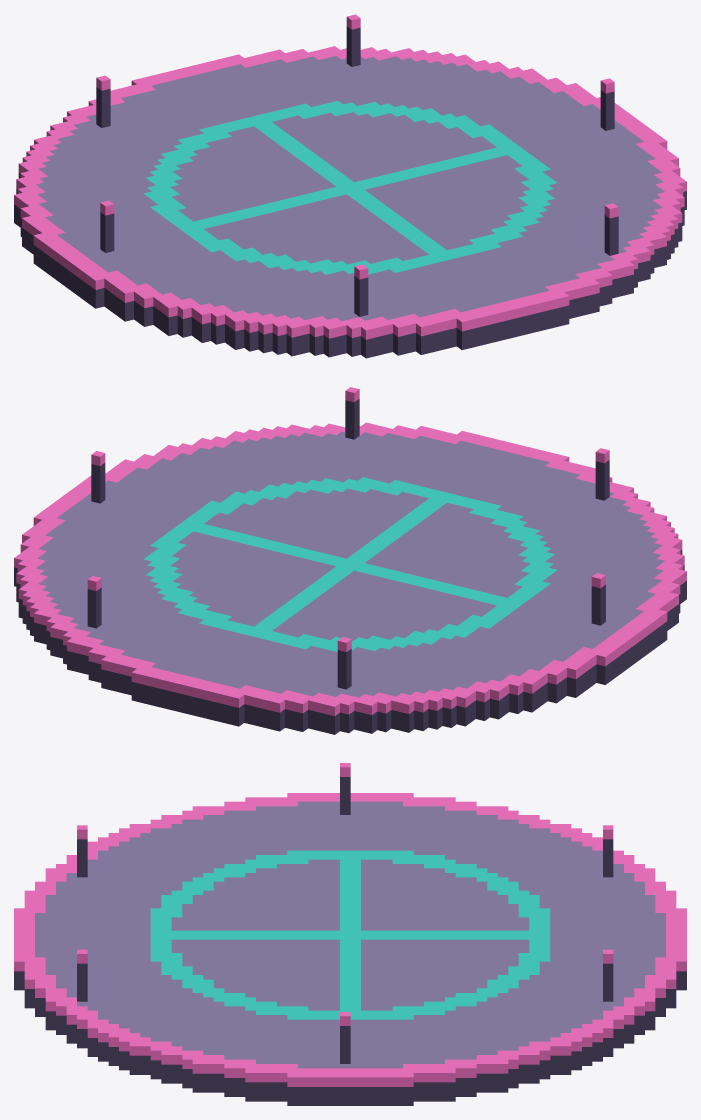
The model's file is plataforma.obj.
3 views of the same model, one above another, from view 1: azimuth 30°, elevation 25°; view 2: azimuth 150°, elevation 25°; view 3: azimuth 270°, elevation 25° (orthographic).
Visible parts, largest first — view 1: plataforma_plataforma, plataforma_luces, plataforma_marca, plataforma_base, postes, faros; view 2: plataforma_plataforma, plataforma_luces, plataforma_marca, plataforma_base, postes, faros; view 3: plataforma_plataforma, plataforma_luces, plataforma_marca, plataforma_base, postes, faros.
Boxes of the visible parts, box(x1,y1,x2,y2) form: plataforma_plataforma: box(36, 56, 664, 321); plataforma_luces: box(14, 46, 686, 339); plataforma_marca: box(143, 101, 556, 274); plataforma_base: box(14, 173, 686, 358); postes: box(96, 26, 618, 316); faros: box(96, 14, 618, 279); plataforma_plataforma: box(36, 431, 664, 697); plataforma_luces: box(14, 422, 686, 715); plataforma_marca: box(143, 477, 556, 651); plataforma_base: box(14, 549, 686, 734); postes: box(87, 399, 609, 689); faros: box(87, 387, 609, 651); plataforma_plataforma: box(35, 801, 665, 1068); plataforma_luces: box(14, 793, 686, 1086); plataforma_marca: box(150, 850, 550, 1019); plataforma_base: box(14, 971, 686, 1105); postes: box(77, 777, 613, 1063); faros: box(77, 763, 613, 1025).
Size of the model in its own units: 6.4 by 1.7 by 6.4.
